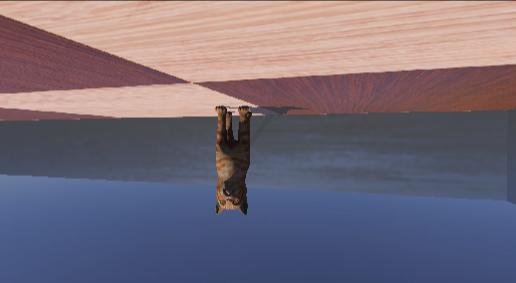Cat: (192, 102, 275, 226)
